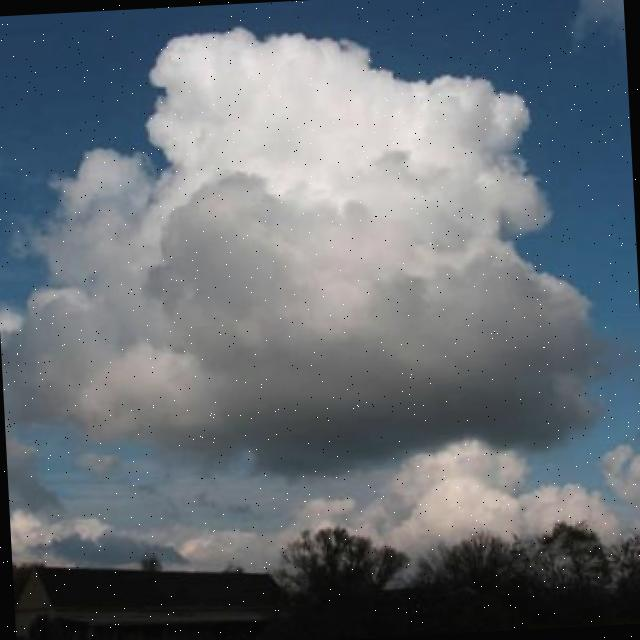Cu: (8, 1, 627, 491)
